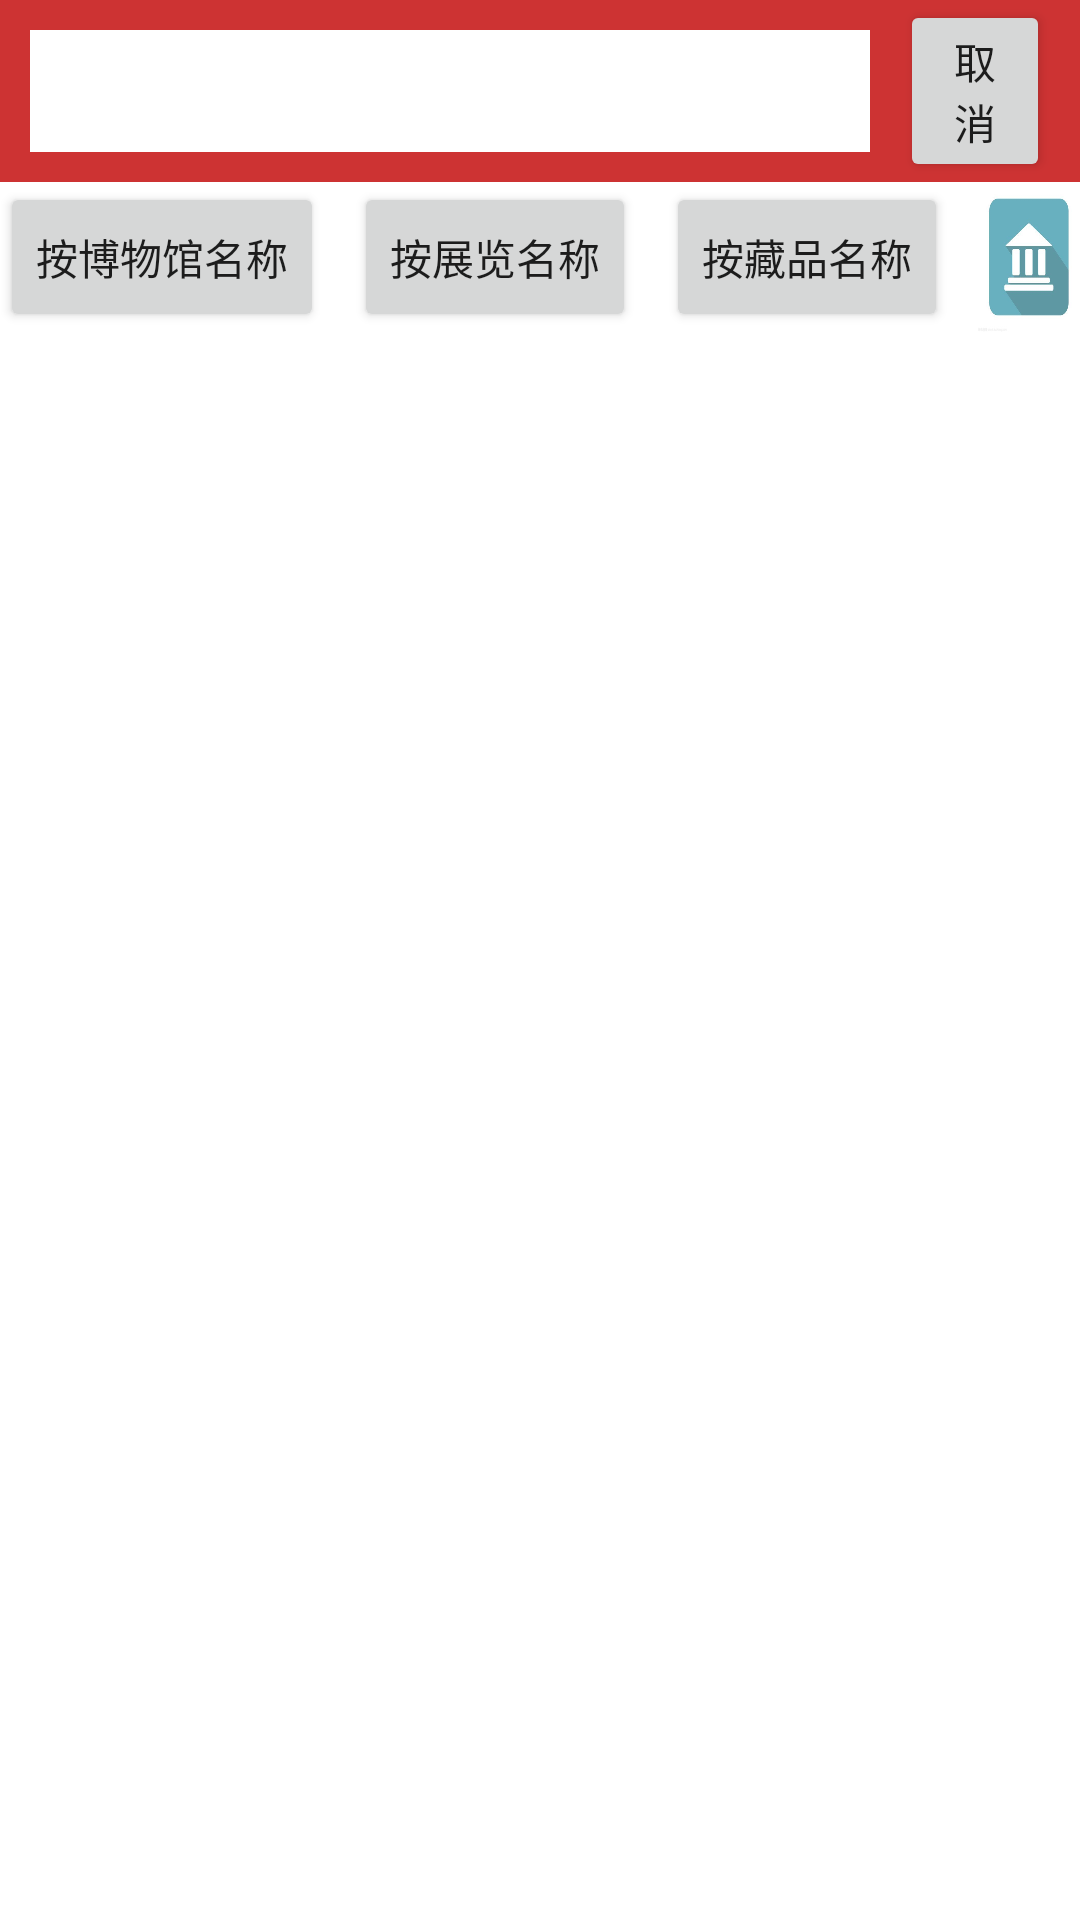

Locate icon controls on the screen. Image size 1080w x 1920h, boxes as [x1=x1, y1=y1, x2=x2, y2=y2].
museumdet: [x1=989, y1=198, x2=1069, y2=316]
